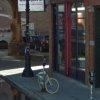Bicycle: (28, 62, 63, 99)
